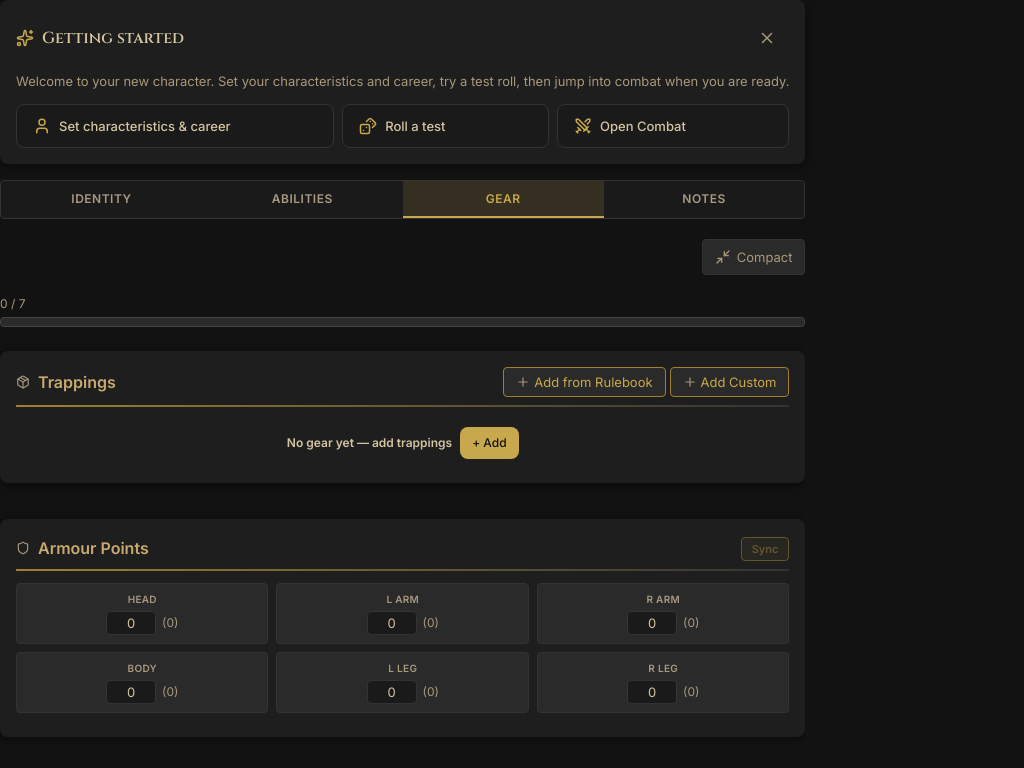
Test: CalculatedTooltips integration › Coin Weight Tooltip (Req 4.1, 4.4) › click coin weight with no coins → shows "No coins carried"
# Switch to Gear tab
Click the tab "Gear" at [503, 199], box [403, 180, 604, 218]
(page scrolled)
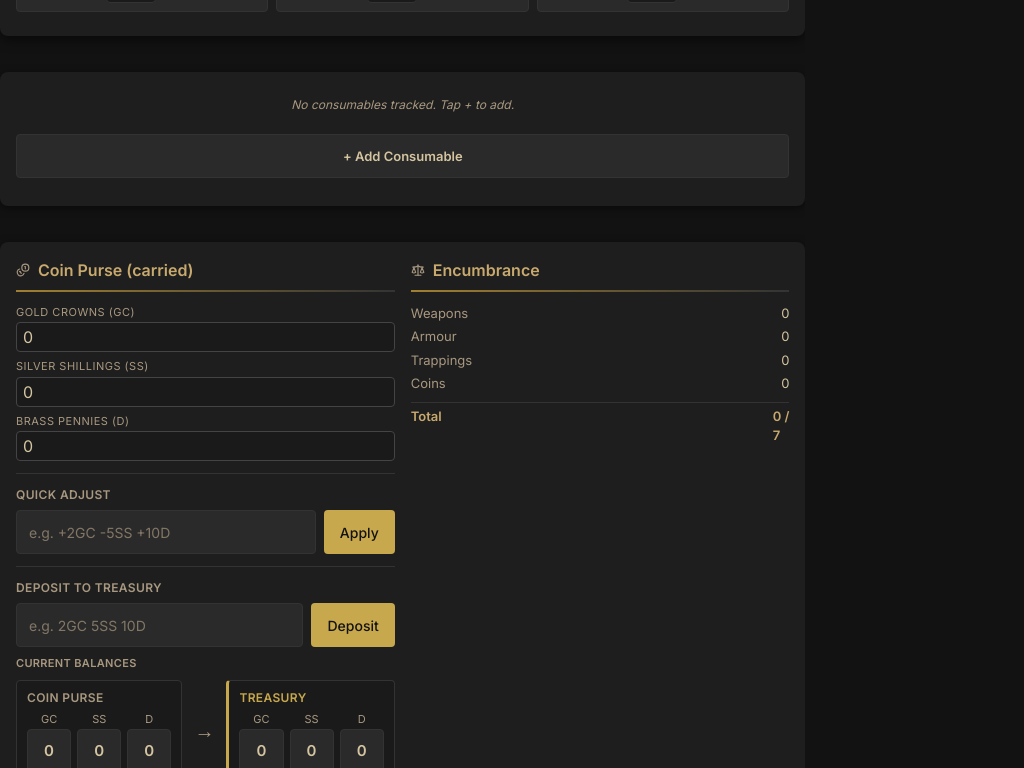
Click the button named "Coin weight breakdown" at [785, 384], box [781, 374, 790, 394]
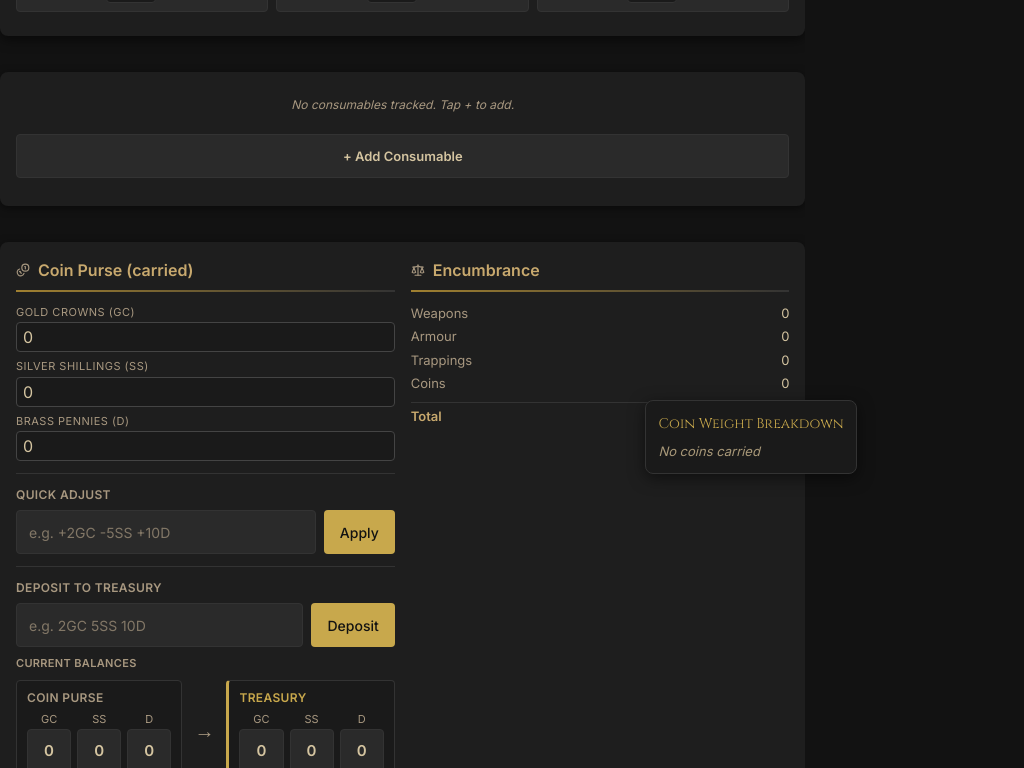
Result: the tooltip with id "tooltip-breakdown-coinWeight" is shown at [645, 400, 857, 474]
Result: the tooltip with id "tooltip-breakdown-coinWeight" shows "No coins carried" at [658, 442, 760, 458]
# Press Escape closes tooltip
Press Escape
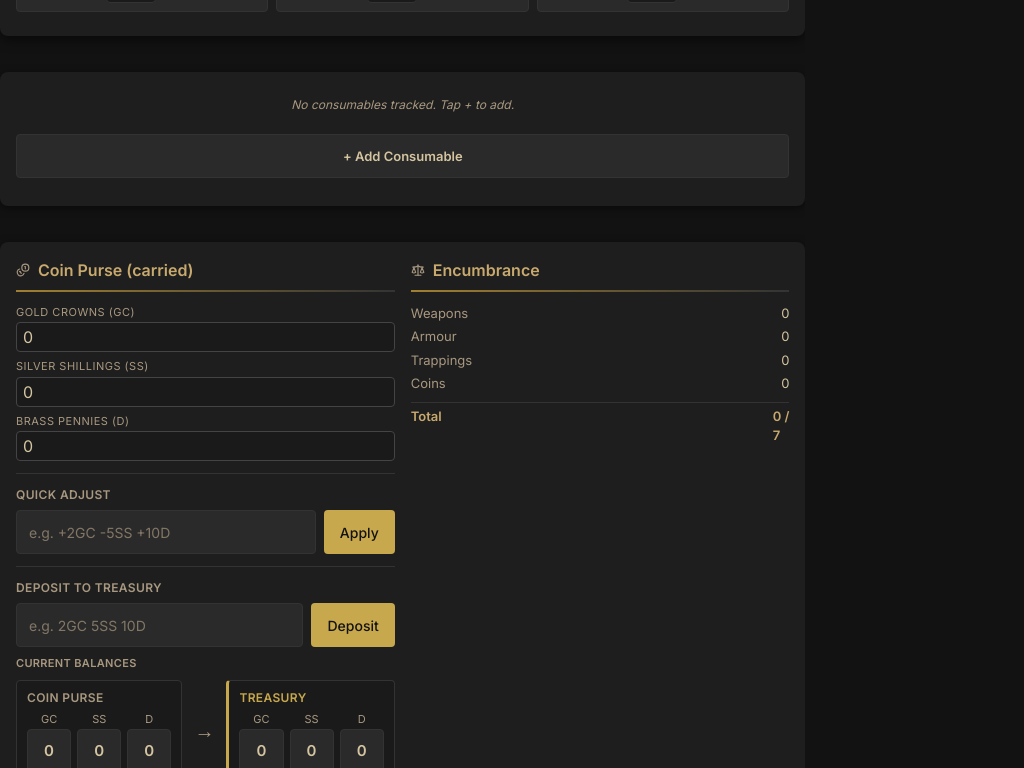
Result: the tooltip with id "tooltip-breakdown-coinWeight" is gone
